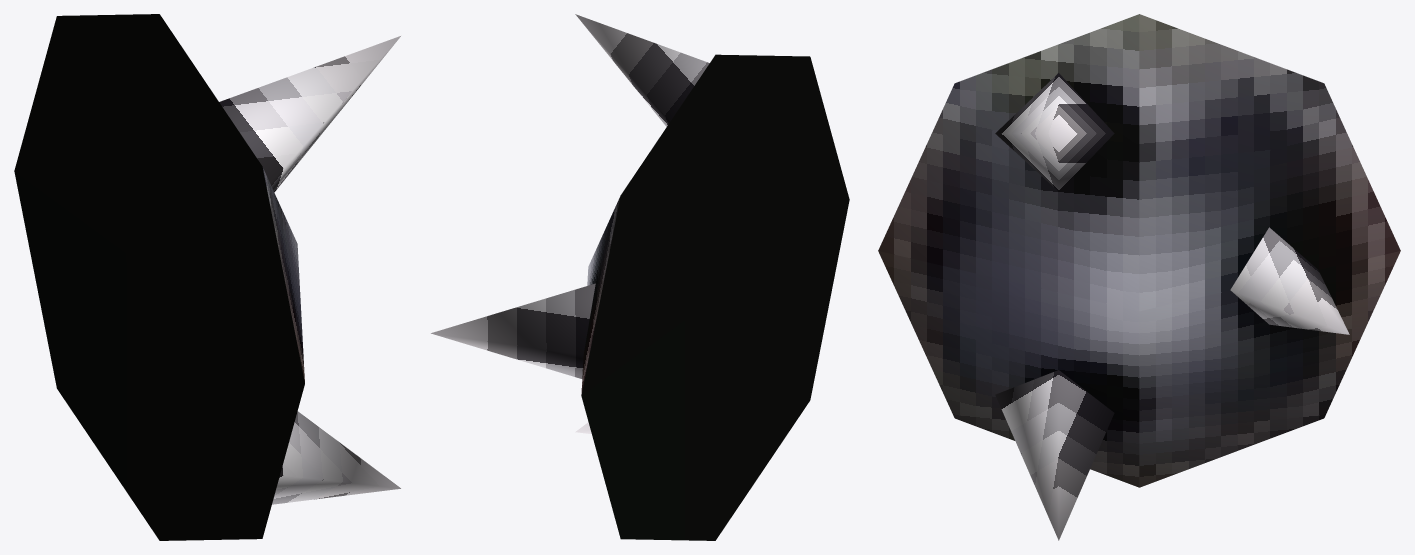
Rendered from Shield02.glb.
3 views of the same model, side by side, from view 1: azimuth 30°, elevation 25°; view 2: azimuth 150°, elevation 25°; view 3: azimuth 270°, elevation 25° (orthographic). The views are drawn at different scales.
Visible parts, largest first — view 1: model_Shield02; view 2: model_Shield02; view 3: model_Shield02.
Boxes of the visible parts, box(x1,y1,x2,y2) form: model_Shield02: box(14, 14, 400, 540); model_Shield02: box(431, 14, 849, 540); model_Shield02: box(878, 14, 1400, 540).
Size of the model in its own units: 0.2348 by 0.5998 by 0.5998.
Materials: 1 (1 with a texture image).
